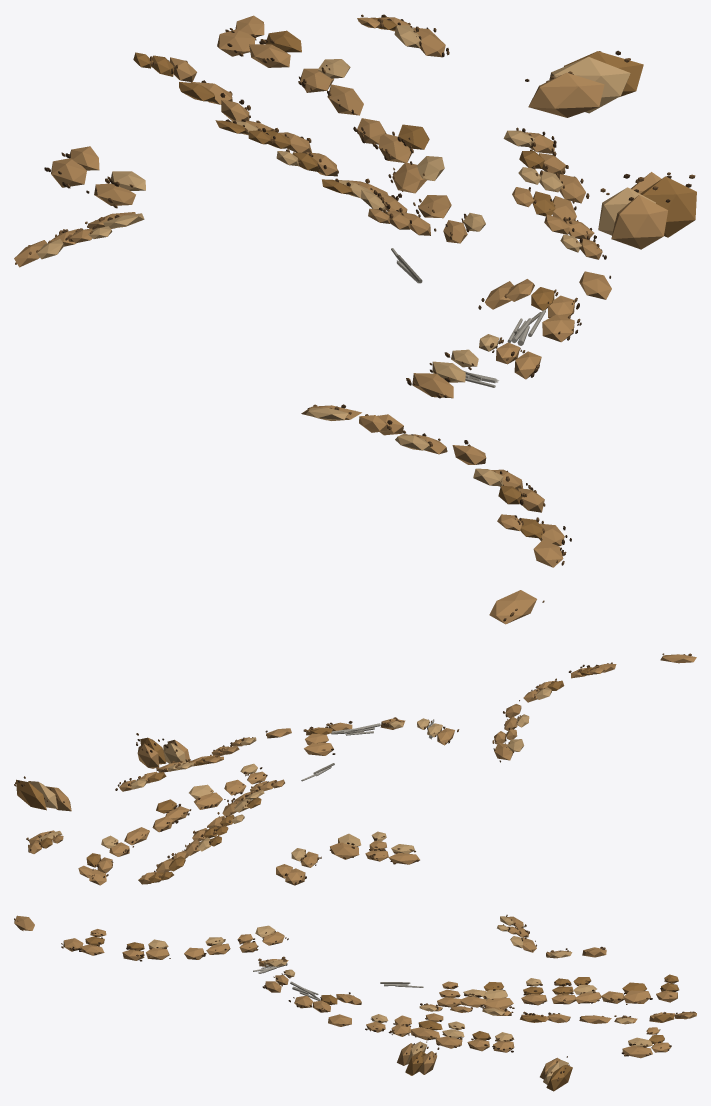
The model's file is chunk_1_5.glb.
3 renders of one model, top to bottom at view 1: azimuth 30°, elevation 25°; view 2: azimuth 150°, elevation 25°; view 3: azimuth 270°, elevation 25°, orthographic. The views are drawn at different scales.
Parts seen in each view (by area): view 1: chunk_1_5; view 2: chunk_1_5; view 3: chunk_1_5.
Part boxes in pixels (x1=…): chunk_1_5: x1=14, y1=14, x2=696, y2=624; chunk_1_5: x1=14, y1=653, x2=696, y2=885; chunk_1_5: x1=14, y1=914, x2=696, y2=1091.
Size of the model in its own units: 97.87 by 8.81 by 169.
